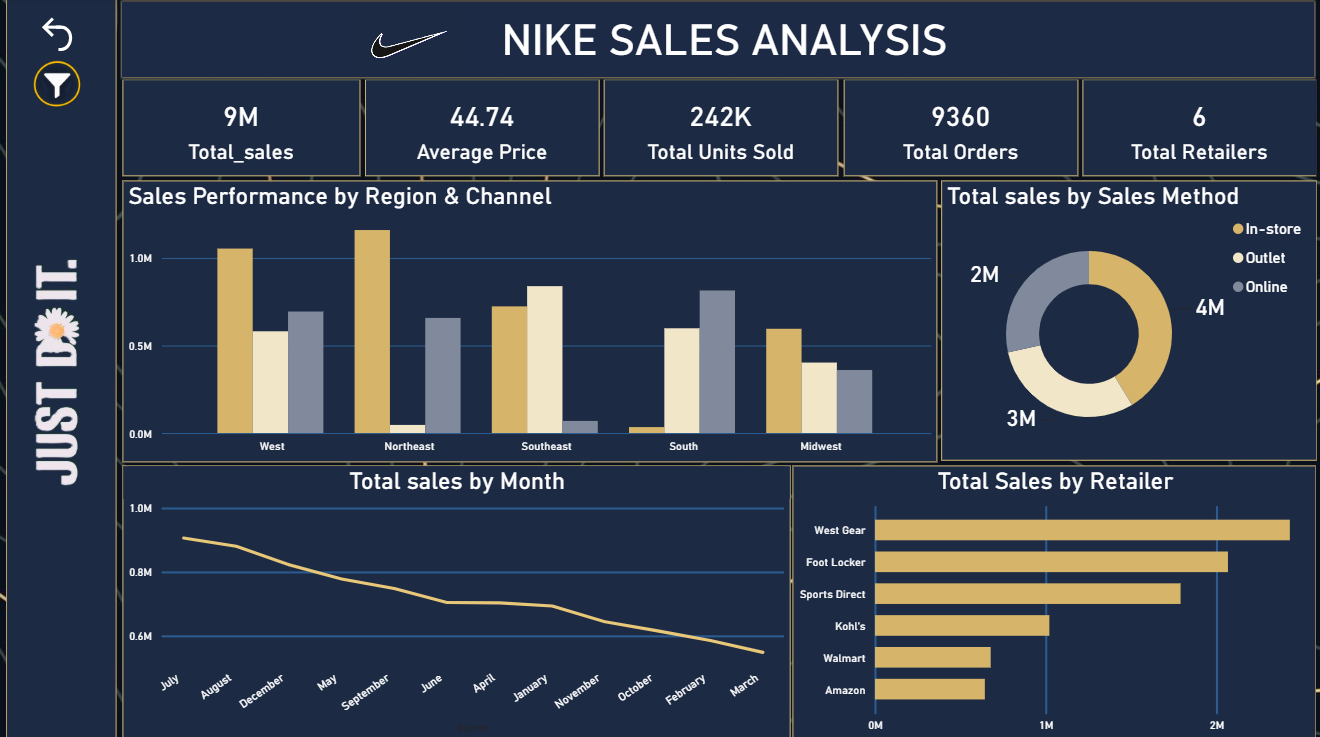

Layout of this report page (visuals, bound fields, positions):
{"tool":"powerbi","page":{"name":"Main Dashhboard","canvas":[1280,720],"ordinal":0},"visuals":[{"type":"shape","box":[5.7,1.4,106.3,718.6],"z":0},{"type":"card","fields":{"Values":["Measure.Total_sales"]},"box":[117.6,78.9,229.6,93.5],"z":1000},{"type":"card","fields":{"Values":["Measure.Total Units Sold"]},"box":[583.1,78.9,226.8,93.5],"z":2000},{"type":"card","fields":{"Values":["Measure.Average Selling Price"]},"box":[351.8,78.9,226.8,93.5],"z":3000},{"type":"card","fields":{"Values":["Measure.Total Orders"]},"box":[814.4,78.9,226.2,93.8],"z":4000},{"type":"card","fields":{"Values":["Measure.Total Retailers"]},"box":[1045.1,78.9,226.2,93.8],"z":5000},{"type":"clusteredBarChart","title":"Total Sales by Retailer","fields":{"Category":["Sales.Retailer"],"Y":["Sum(Sales.Total Sales)"]},"box":[765.4,450.7,506,266.5],"z":6000},{"type":"lineChart","title":"Total sales by Month","fields":{"Category":["Date Table.Month"],"Y":["Measure.Total_sales"]},"box":[117.6,450.7,644.9,266.5],"z":7000},{"type":"donutChart","title":"Total sales by Sales Method","fields":{"Category":["Sales.Sales Method"],"Y":["Measure.Total_sales"]},"box":[908.5,175.7,362.8,270.7],"z":8000},{"type":"shape","box":[116.1,1.5,1155,77.4],"z":9000},{"type":"clusteredColumnChart","title":"Sales Performance by Region & Channel","fields":{"Category":["Sales.Region"],"Series":["Sales.Sales Method"],"Y":["Sum(Sales.Total Sales)"]},"box":[117.6,175.7,786.6,272.1],"z":10000},{"type":"image","box":[20.8,55.1,70,55.1],"z":11000},{"type":"image","box":[12.1,111,94.1,505.5],"z":11500},{"type":"actionButton","box":[33.3,13,46.1,43.2],"z":16000},{"type":"image","box":[342.3,10.4,105.7,61],"z":17000}]}

Visuals, with their boxes in screenshot pixels (x1, y1, x2, y2), scaled from the page's 1280x720 canvas onto the 1320x737 screenshot:
shape: [left=6, top=1, right=116, bottom=736]
card - Measure.Total_sales: [left=121, top=81, right=358, bottom=176]
card - Measure.Total Units Sold: [left=601, top=81, right=835, bottom=176]
card - Measure.Average Selling Price: [left=363, top=81, right=597, bottom=176]
card - Measure.Total Orders: [left=840, top=81, right=1073, bottom=177]
card - Measure.Total Retailers: [left=1078, top=81, right=1311, bottom=177]
"Total Sales by Retailer" clusteredBarChart: [left=789, top=461, right=1311, bottom=734]
"Total sales by Month" lineChart: [left=121, top=461, right=786, bottom=734]
"Total sales by Sales Method" donutChart: [left=937, top=180, right=1311, bottom=457]
shape: [left=120, top=2, right=1311, bottom=81]
"Sales Performance by Region & Channel" clusteredColumnChart: [left=121, top=180, right=932, bottom=458]
image: [left=21, top=56, right=94, bottom=113]
image: [left=12, top=114, right=110, bottom=631]
actionButton: [left=34, top=13, right=82, bottom=58]
image: [left=353, top=11, right=462, bottom=73]
